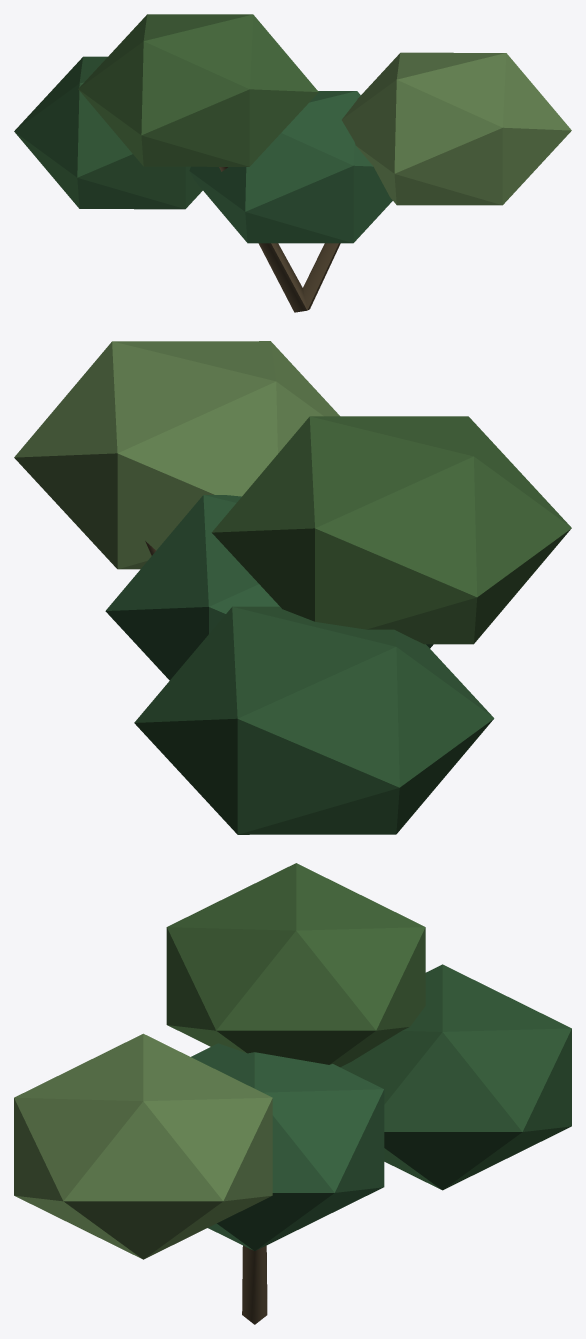
The model's file is shrub-round.far.glb.
The picture shows the model from 3 angles, top to bottom: view 1: azimuth 30°, elevation 25°; view 2: azimuth 150°, elevation 25°; view 3: azimuth 270°, elevation 25°; orthographic projection. The views are drawn at different scales.
Parts seen in each view (by area): view 1: foliage, wood; view 2: foliage; view 3: foliage, wood.
Part boxes in pixels (x1=…): foliage: x1=14, y1=14, x2=571, y2=243; wood: x1=219, y1=167, x2=340, y2=312; foliage: x1=14, y1=341, x2=571, y2=834; foliage: x1=14, y1=863, x2=571, y2=1259; wood: x1=242, y1=1245, x2=267, y2=1324.
Size of the model in its own units: 2.42 by 1.8 by 2.46.
